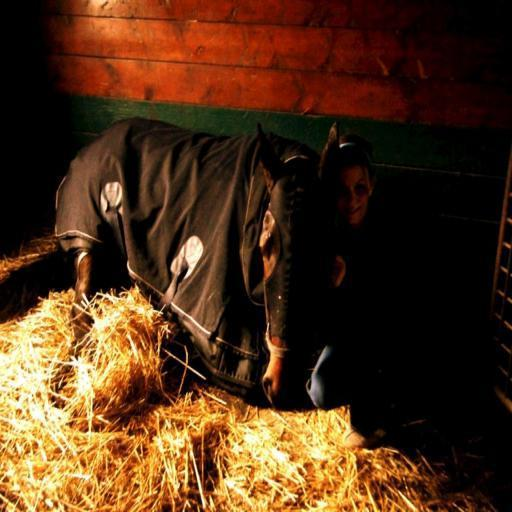horse: (52, 114, 342, 412)
